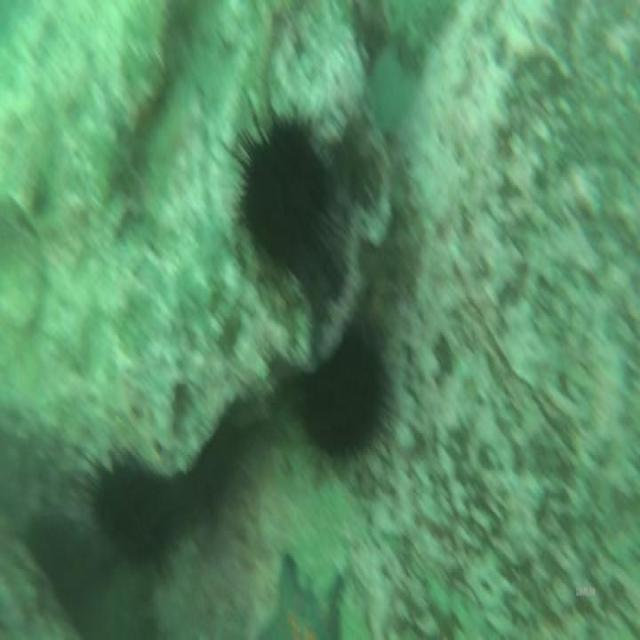echinus: (236, 117, 334, 283), (295, 322, 389, 468), (96, 452, 190, 578), (25, 509, 107, 635)
starfish: (263, 545, 347, 640)
